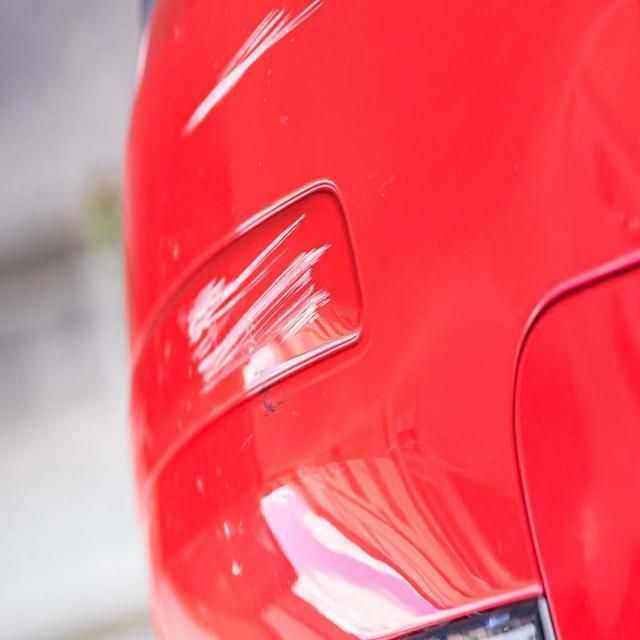scratch: (180, 190, 338, 424), (174, 2, 328, 140)
